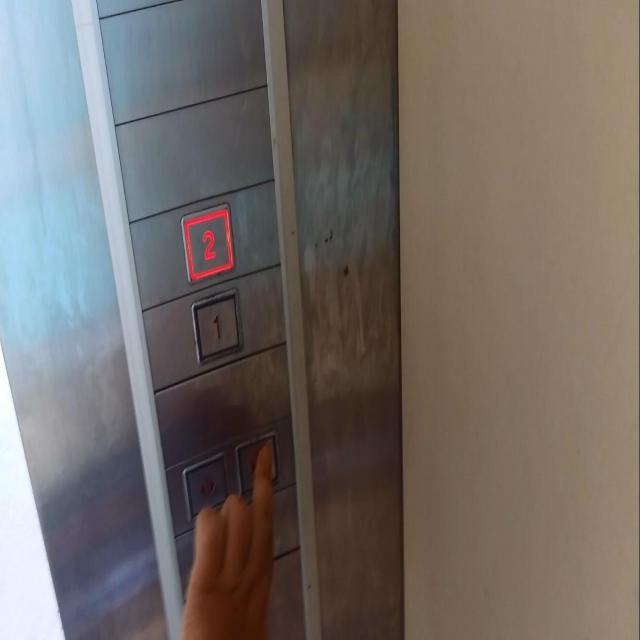1: (191, 286, 243, 365)
2: (180, 202, 235, 284)
open: (182, 451, 229, 522)
